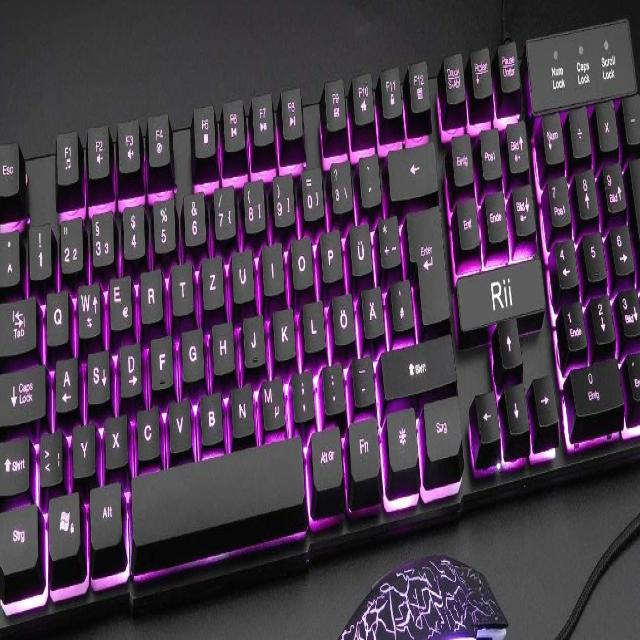0: (299, 161, 323, 220)
1: (26, 217, 51, 277)
2: (58, 210, 82, 272)
3: (88, 203, 114, 266)
4: (121, 197, 145, 257)
5: (151, 191, 175, 252)
6: (181, 186, 206, 243)
7: (212, 179, 235, 239)
8: (241, 173, 265, 232)
9: (270, 167, 294, 226)
a: (53, 352, 78, 412)
accent: (357, 147, 380, 204)
ae: (359, 281, 383, 336)
alt-left: (88, 476, 122, 547)
altgr-right: (309, 421, 342, 489)
b: (198, 388, 223, 442)
c: (134, 402, 159, 458)
caret: (0, 224, 19, 284)
comma: (290, 365, 314, 419)
d: (117, 339, 141, 395)
del: (385, 137, 437, 198)
e: (107, 271, 131, 329)
enter: (404, 200, 449, 326)
f: (149, 331, 172, 388)
g: (179, 324, 203, 380)
h: (210, 318, 234, 373)
hash: (389, 275, 413, 327)
i: (261, 238, 283, 293)
j: (241, 310, 264, 365)
k: (272, 302, 295, 359)
keyboard: (0, 4, 640, 640)
l: (301, 296, 324, 350)
less: (37, 425, 62, 485)
m: (259, 373, 284, 428)
minus: (351, 351, 374, 403)
n: (230, 379, 254, 435)
o: (289, 232, 313, 286)
oe: (331, 289, 354, 344)
p: (319, 225, 342, 280)
plus: (376, 210, 400, 266)
point: (320, 358, 343, 412)
q: (44, 284, 69, 344)
r: (138, 264, 162, 321)
s: (84, 345, 109, 403)
shift-left: (0, 431, 29, 493)
shift-lock: (0, 361, 45, 423)
shift-right: (378, 332, 456, 396)
space: (129, 433, 304, 547)
ss: (328, 153, 352, 212)
strg-left: (0, 497, 38, 572)
strg-right: (422, 391, 461, 460)
t: (170, 257, 193, 314)
tab: (0, 292, 36, 353)
u: (231, 245, 254, 301)
ue: (348, 219, 371, 274)
v: (167, 393, 191, 450)
w: (76, 279, 100, 338)
x: (103, 409, 127, 466)
y: (71, 418, 95, 475)
z: (200, 251, 223, 307)
